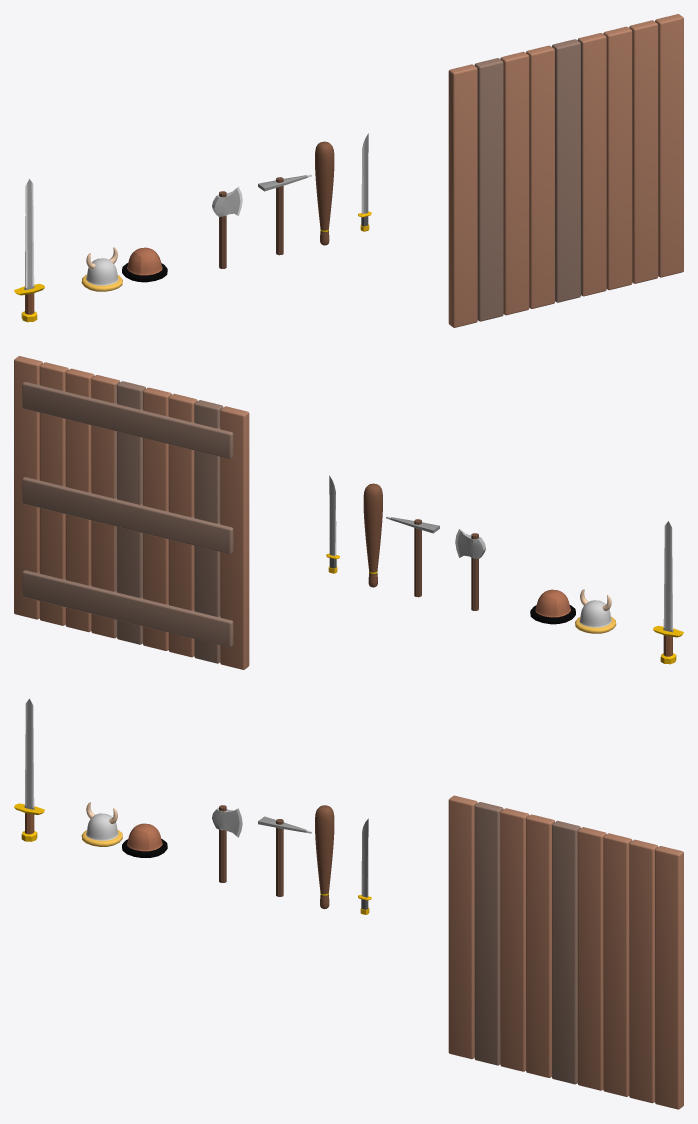
Rendered from valheimtools.fbx.
3 views of the same model, one above another, from view 1: azimuth 30°, elevation 25°; view 2: azimuth 150°, elevation 25°; view 3: azimuth 330°, elevation 25° (orthographic).
Visible parts, largest first — view 1: Cube.013, Cube.002, Куб.002, Куб, Куб.001, Cube.005, Cube.003, Cube.001; view 2: Cube.013, Cube.002, Куб.002, Куб, Куб.001, Cube.005, Cube.003, Cube.001; view 3: Cube.013, Cube.002, Куб.002, Куб, Куб.001, Cube.005, Cube.003, Cube.001.
Boxes of the visible parts, x1=… form: Cube.013: x1=448, y1=14, x2=683, y2=327; Cube.002: x1=315, y1=141, x2=334, y2=245; Куб.002: x1=14, y1=179, x2=44, y2=322; Куб: x1=122, y1=247, x2=167, y2=282; Куб.001: x1=81, y1=247, x2=122, y2=291; Cube.005: x1=212, y1=186, x2=242, y2=268; Cube.003: x1=258, y1=174, x2=311, y2=255; Cube.001: x1=358, y1=133, x2=371, y2=231; Cube.013: x1=14, y1=356, x2=249, y2=669; Cube.002: x1=363, y1=483, x2=382, y2=587; Куб.002: x1=653, y1=521, x2=683, y2=664; Куб: x1=530, y1=589, x2=575, y2=624; Куб.001: x1=575, y1=589, x2=616, y2=633; Cube.005: x1=455, y1=528, x2=485, y2=610; Cube.003: x1=386, y1=516, x2=439, y2=597; Cube.001: x1=326, y1=475, x2=339, y2=573; Cube.013: x1=448, y1=795, x2=683, y2=1109; Cube.002: x1=315, y1=805, x2=334, y2=909; Куб.002: x1=14, y1=698, x2=44, y2=841; Куб: x1=122, y1=823, x2=167, y2=857; Куб.001: x1=81, y1=802, x2=122, y2=846; Cube.005: x1=212, y1=805, x2=242, y2=882; Cube.003: x1=258, y1=816, x2=311, y2=896; Cube.001: x1=358, y1=818, x2=371, y2=914.
Bounding box in the file's own units: 5431 × 1986 × 321.
